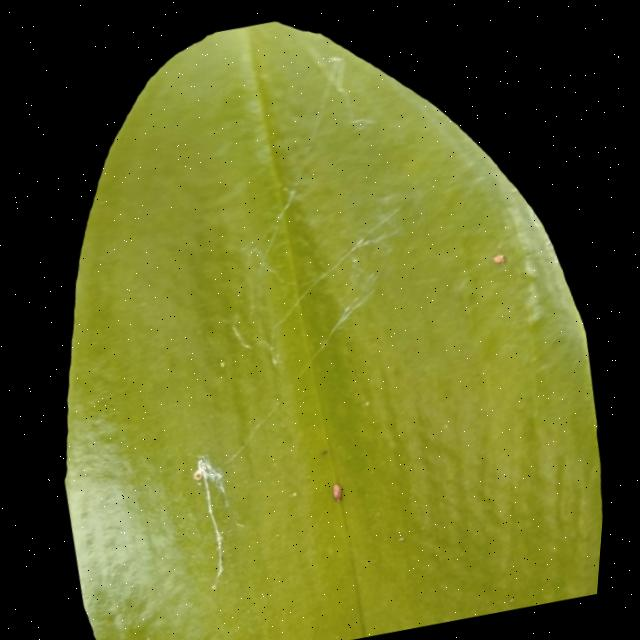mite: (189, 421, 367, 591), (322, 440, 354, 505), (195, 451, 231, 487), (485, 238, 518, 272), (320, 438, 342, 461), (399, 527, 418, 545), (218, 352, 235, 372), (198, 465, 212, 482), (403, 530, 415, 542), (325, 444, 337, 455), (367, 395, 378, 407), (295, 487, 306, 498), (222, 356, 232, 368)
spots: (6, 6, 614, 640)
